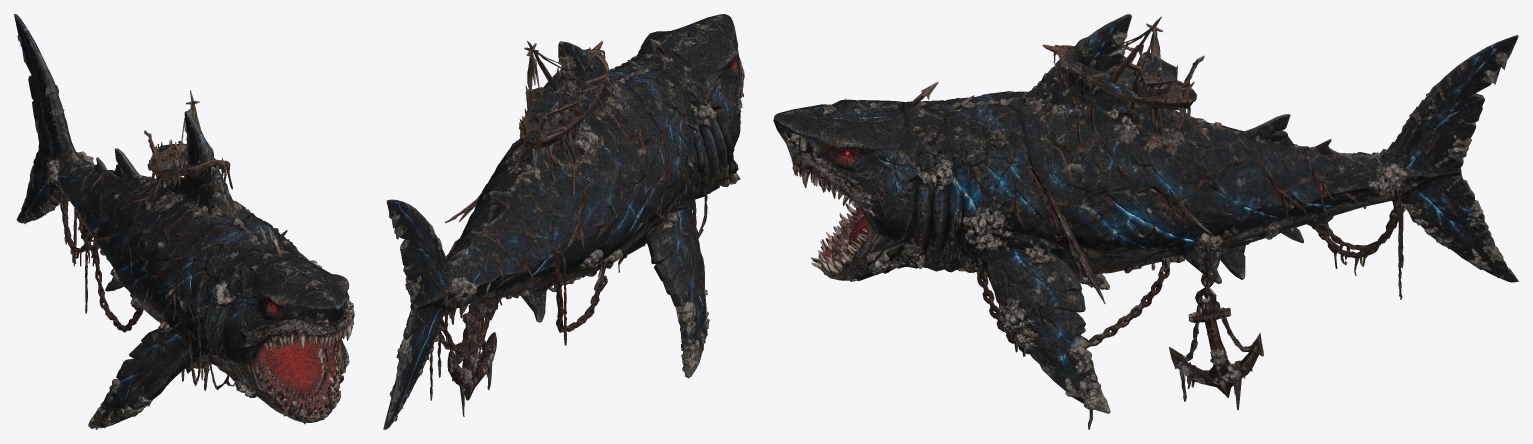
File: megalodon.glb
3 views of the same model, side by side, from view 1: azimuth 30°, elevation 25°; view 2: azimuth 150°, elevation 25°; view 3: azimuth 270°, elevation 25° (orthographic). The views are drawn at different scales.
Parts seen in each view (by area): view 1: Mesh_0; view 2: Mesh_0; view 3: Mesh_0.
Boxes of the visible parts, bbox=[...] form: Mesh_0: bbox=[14, 14, 354, 429]; Mesh_0: bbox=[383, 14, 744, 429]; Mesh_0: bbox=[773, 14, 1518, 429].
Bounding box in the file's own units: 0.7952 × 1.07 × 1.9.
Materials: 1 (1 with a texture image).
